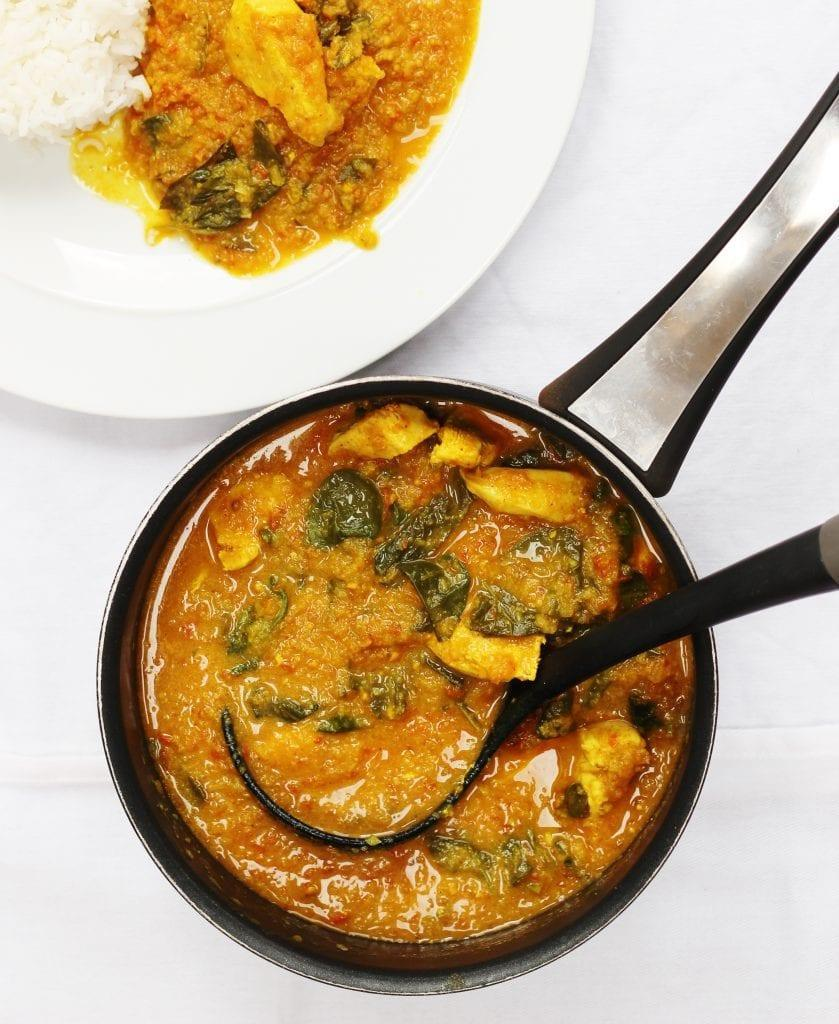chicken: (128, 411, 728, 950), (130, 1, 457, 242)
rice: (0, 1, 148, 137)
